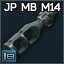M14 JP Enterprises 7.62x51 tactical muzzle brake & compensator: (0, 0, 64, 64)
